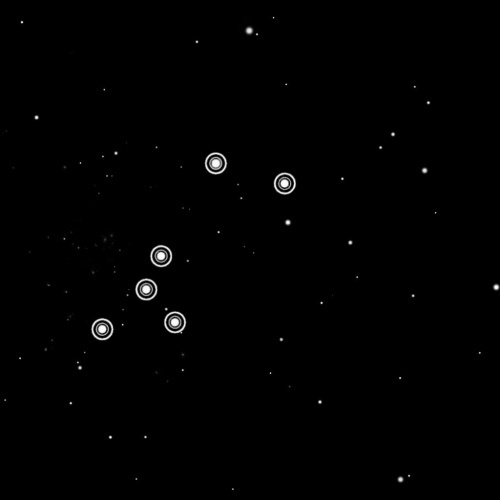canis_major: (81, 145, 303, 352)
